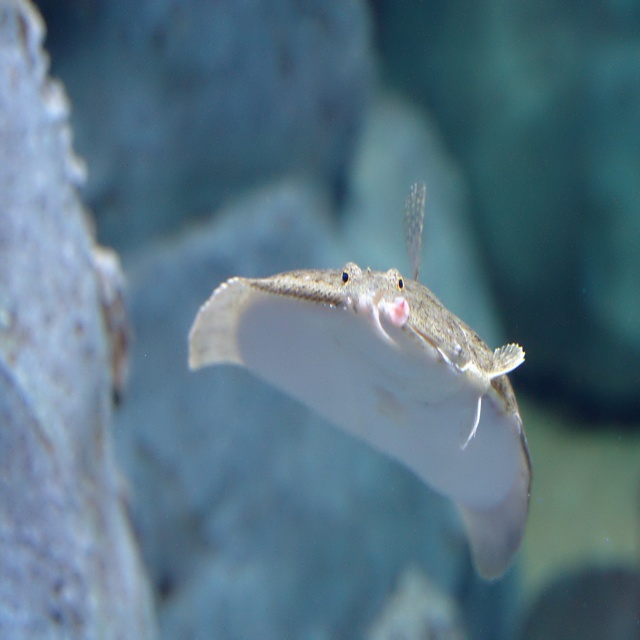Fish: (186, 181, 533, 584)
